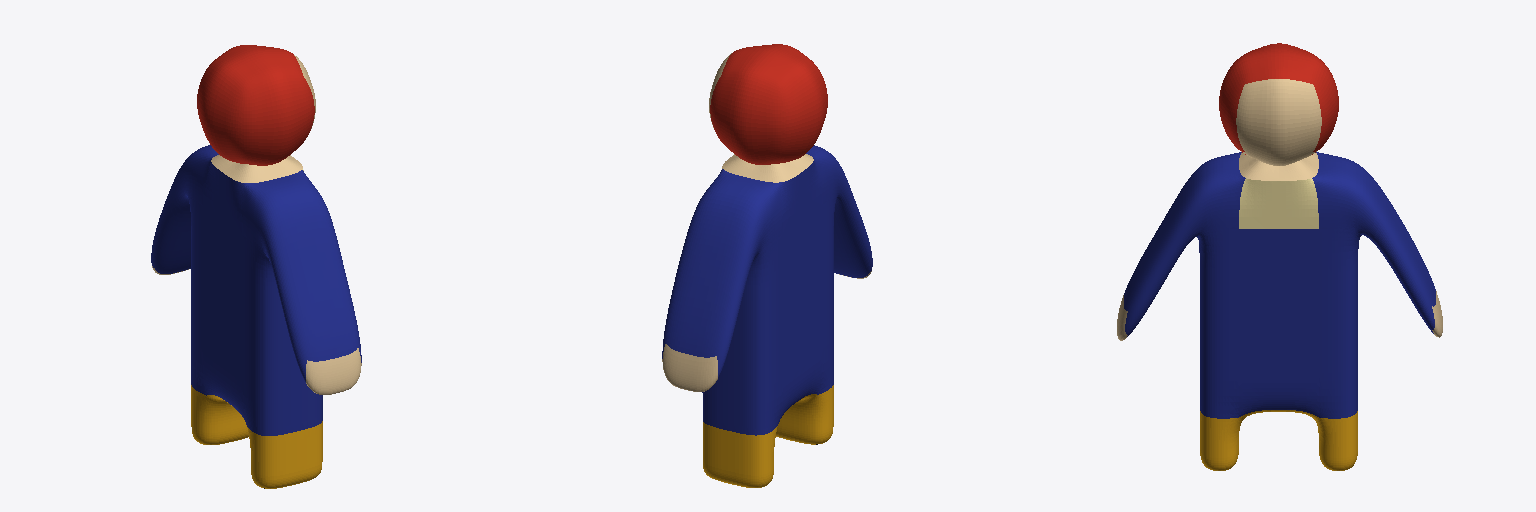
The model's file is tmpmaincharacter.obj.
3 views of the same model, side by side, from view 1: azimuth 30°, elevation 25°; view 2: azimuth 150°, elevation 25°; view 3: azimuth 270°, elevation 25° (orthographic).
Visible parts, largest first — view 1: Map1&Map2_v18_MainChar_0; view 2: Map1&Map2_v18_MainChar_0; view 3: Map1&Map2_v18_MainChar_0.
Boxes of the visible parts, box(x1,y1,x2,y2) form: Map1&Map2_v18_MainChar_0: box(151, 45, 361, 488); Map1&Map2_v18_MainChar_0: box(662, 44, 872, 487); Map1&Map2_v18_MainChar_0: box(1117, 43, 1442, 470).
Bounding box in the file's own units: 7.93 × 29.84 × 21.55.